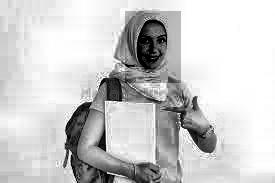happy: (125, 11, 181, 83)
